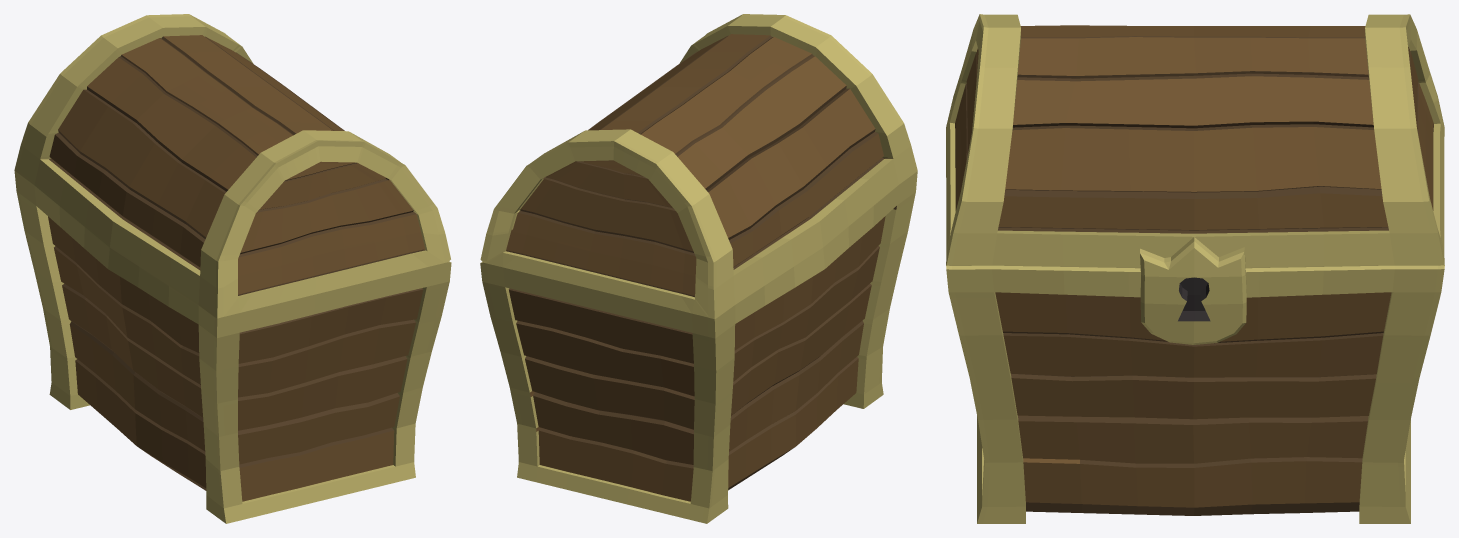
The model's file is treasurechestfbx.fbx.
3 renders of one model, left to right at view 1: azimuth 30°, elevation 25°; view 2: azimuth 150°, elevation 25°; view 3: azimuth 270°, elevation 25°, orthographic. The views are drawn at different scales.
Parts seen in each view (by area): view 1: Cube; view 2: Cube; view 3: Cube.
Part boxes in pixels (box(x1,y1,x2,y2)): Cube: box(14, 14, 451, 523); Cube: box(480, 14, 917, 523); Cube: box(946, 14, 1444, 523).
Size of the model in its own units: 123 by 163 by 167.
